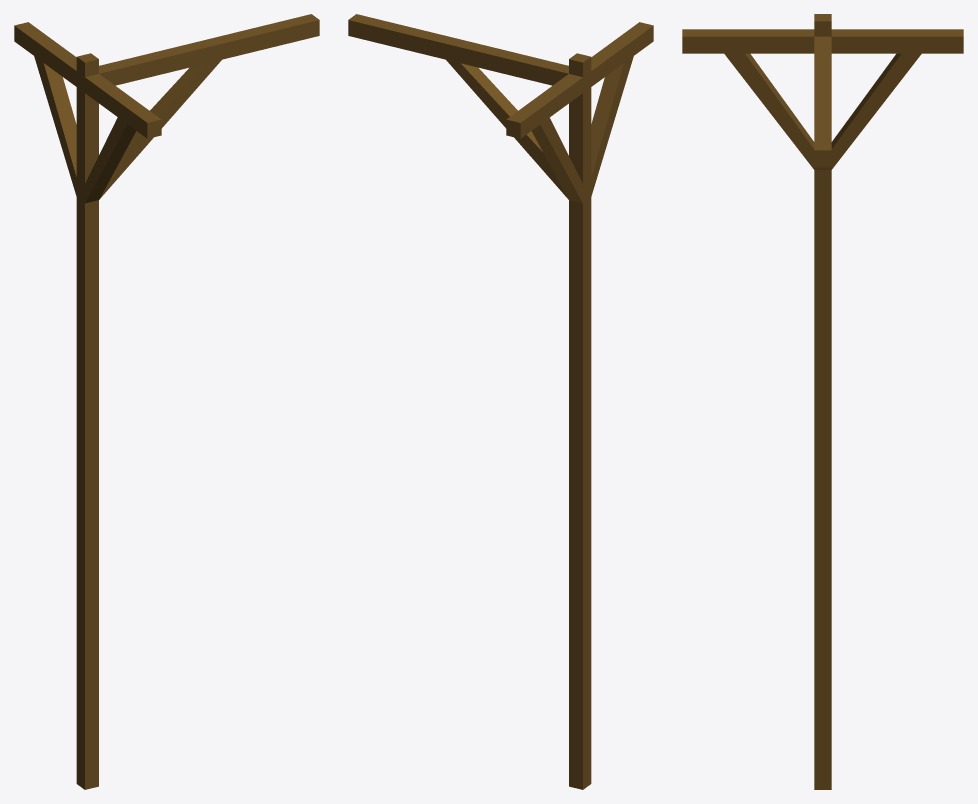
File: co_ElectricPoleAngle.fbx
The picture shows the model from 3 angles, left to right: view 1: azimuth 30°, elevation 25°; view 2: azimuth 150°, elevation 25°; view 3: azimuth 270°, elevation 25°; orthographic projection. The views are drawn at different scales.
Visible parts, largest first — view 1: ElectricPole1; view 2: ElectricPole1; view 3: ElectricPole1.
Boxes of the visible parts, left/top/right/bottom form: ElectricPole1: left=14, top=14, right=319, bottom=789; ElectricPole1: left=348, top=14, right=653, bottom=789; ElectricPole1: left=682, top=14, right=963, bottom=789.
Bounding box in the file's own units: 654 × 1935 × 642.
